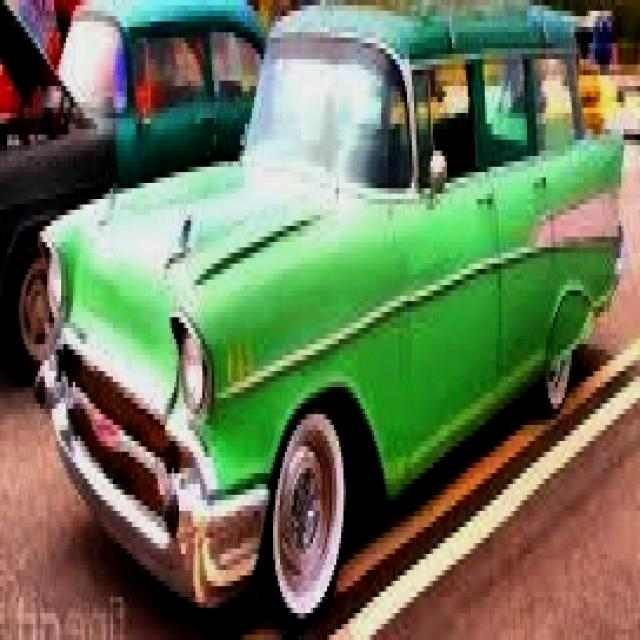green: (5, 4, 616, 617)
